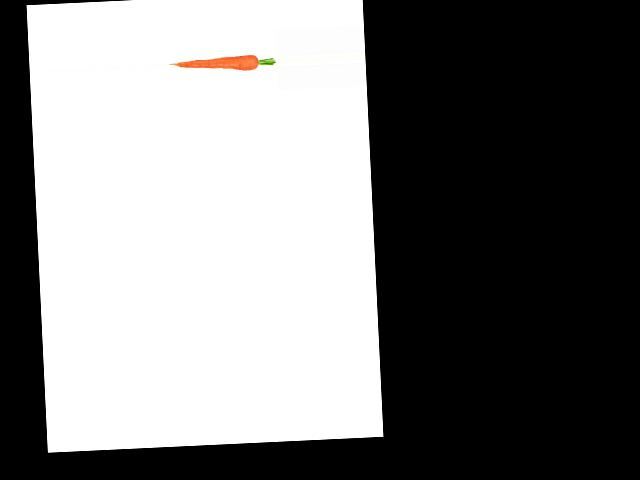carrot: (167, 47, 265, 87)
